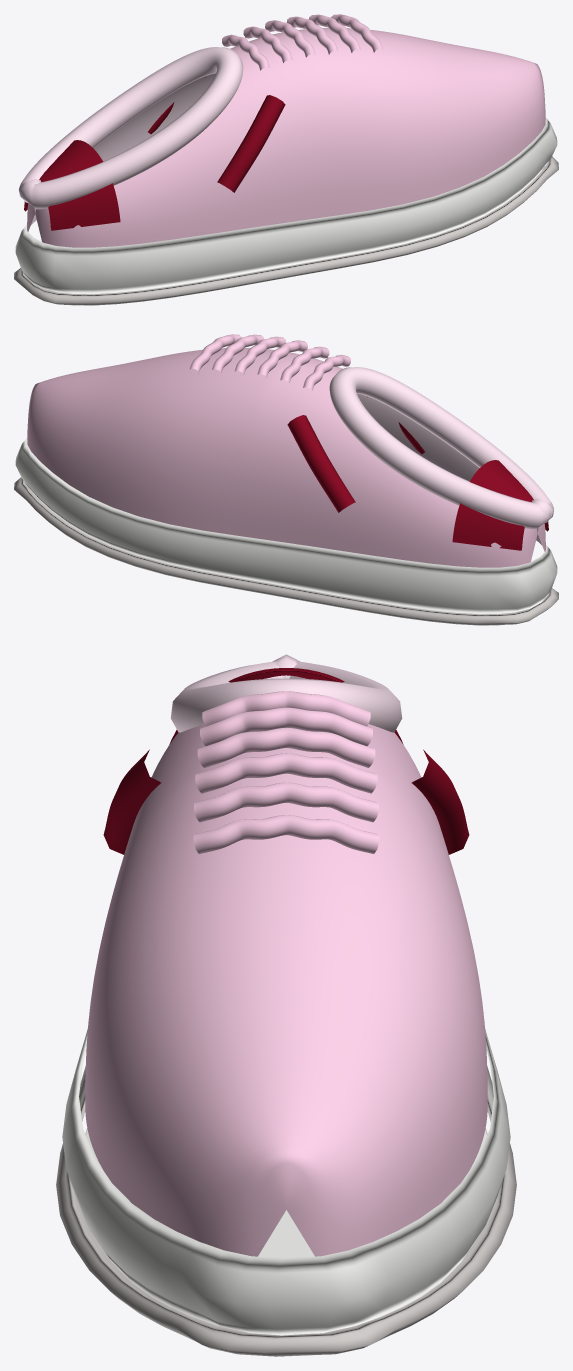
Rendered from court-classic-blush.glb.
3 views of the same model, one above another, from view 1: azimuth 30°, elevation 25°; view 2: azimuth 150°, elevation 25°; view 3: azimuth 270°, elevation 25° (orthographic). The views are drawn at different scales.
Parts seen in each view (by area): view 1: upper, midsole, collar, outsole, laces, heel-panel, lining, side-stripe; view 2: upper, midsole, collar, outsole, laces, heel-panel, lining, side-stripe-medial; view 3: upper, midsole, laces, outsole, collar, side-stripe, side-stripe-medial, heel-panel.
Part boxes in pixels (x1,y1,x2,y2): upper: (27, 28, 545, 247); midsole: (15, 117, 557, 294); collar: (19, 47, 243, 209); outsole: (14, 156, 558, 305); laces: (222, 14, 382, 70); heel-panel: (24, 140, 120, 230); lining: (31, 73, 215, 224); side-stripe: (217, 95, 285, 192); upper: (27, 348, 545, 567); midsole: (15, 437, 557, 614); collar: (329, 367, 553, 529); outsole: (14, 477, 558, 625); laces: (190, 334, 350, 390); heel-panel: (452, 460, 548, 550); lining: (357, 393, 541, 544); side-stripe-medial: (287, 415, 355, 512); upper: (85, 724, 487, 1256); midsole: (62, 1028, 510, 1335); laces: (193, 691, 379, 853); outsole: (56, 1066, 516, 1356); collar: (170, 654, 402, 732); side-stripe: (103, 749, 161, 854); side-stripe-medial: (411, 749, 469, 854); heel-panel: (169, 668, 403, 744).
Size of the model in its own units: 0.2901 by 0.108 by 0.1105.
